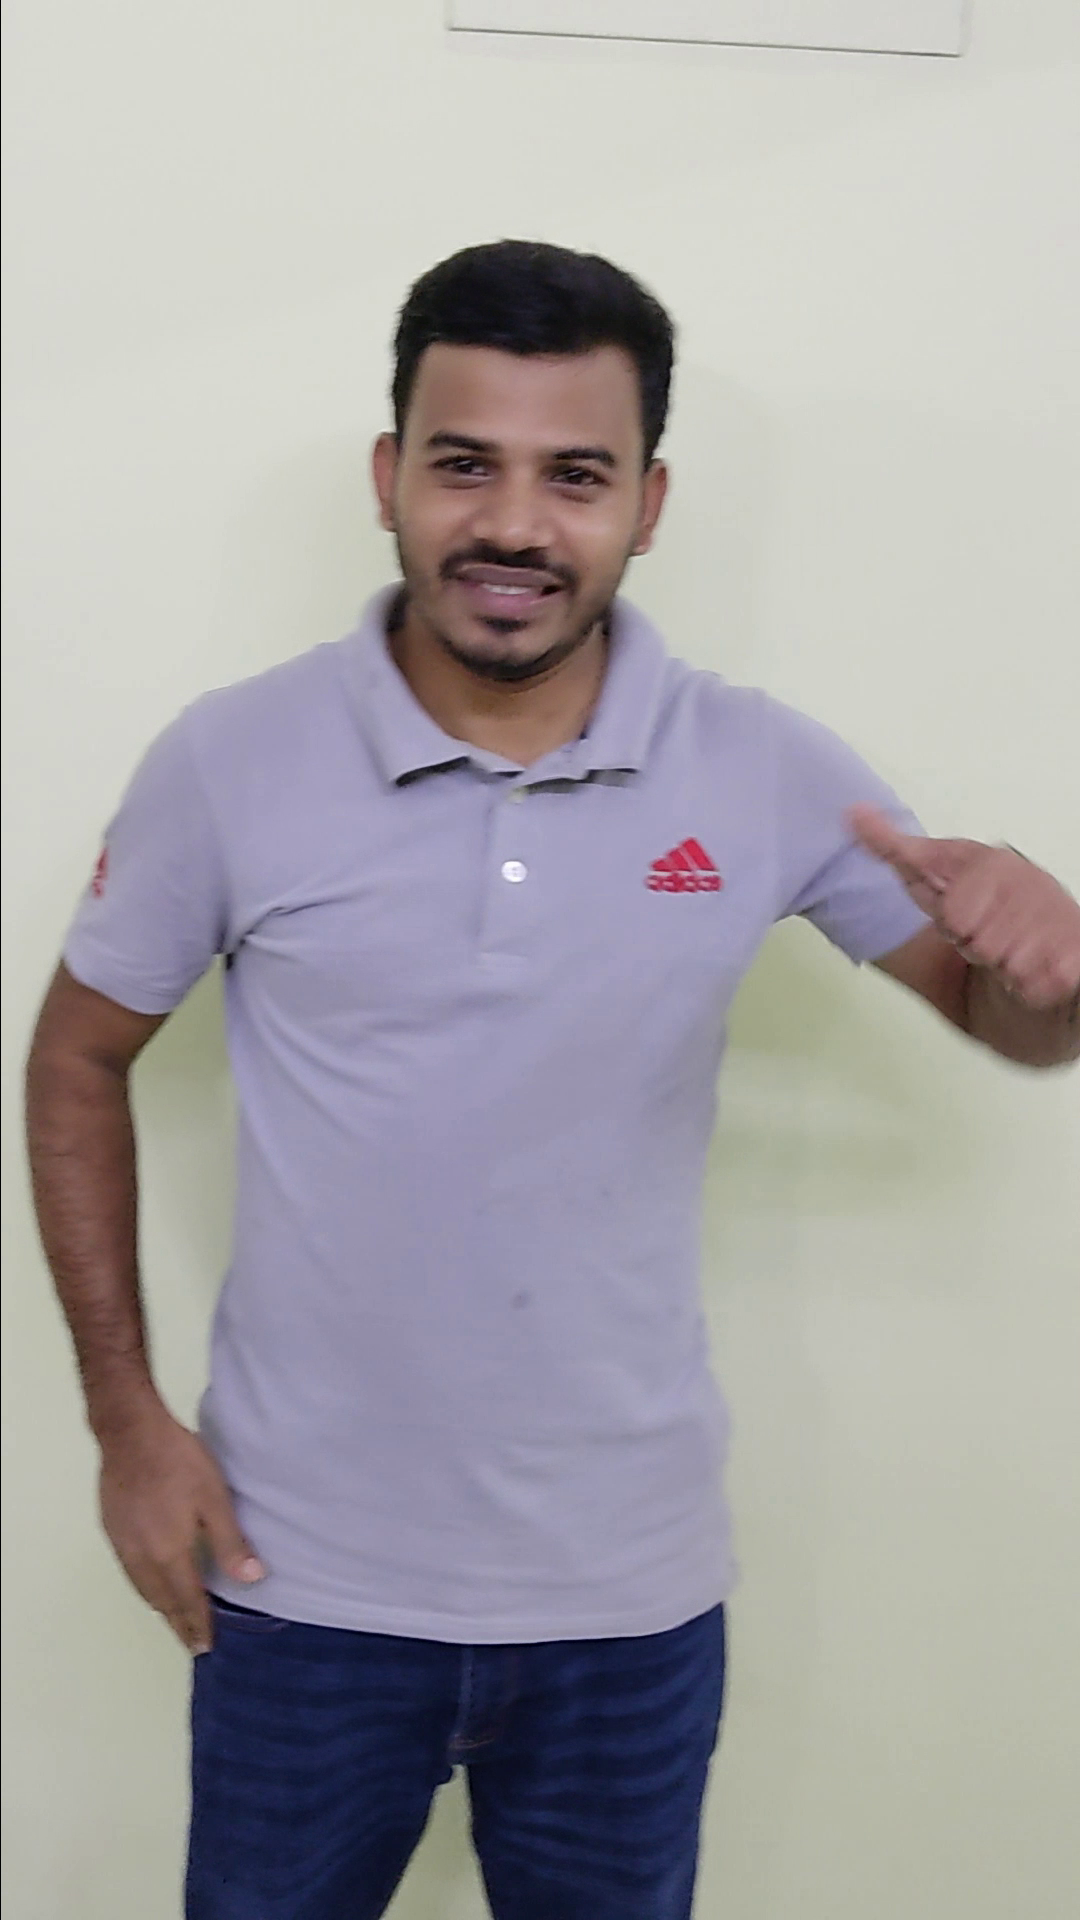Like: (841, 778, 1080, 1018)
None: (74, 1381, 291, 1683)
